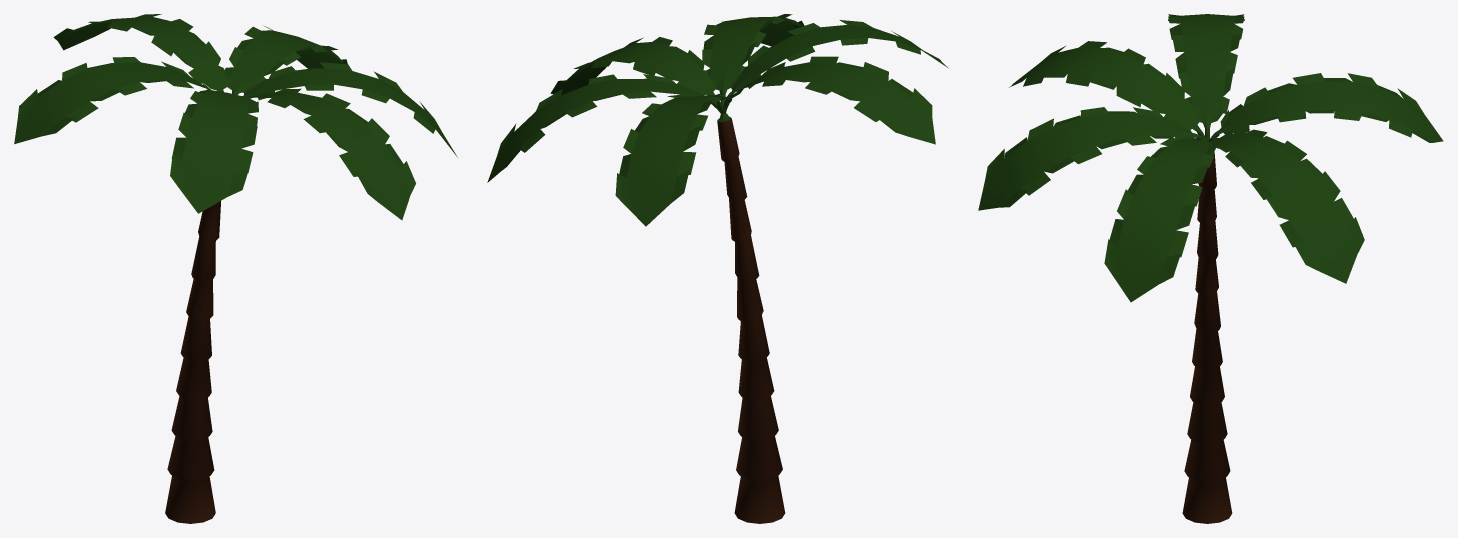
Rendered from Palm Tree_004.fbx.
3 views of the same model, side by side, from view 1: azimuth 30°, elevation 25°; view 2: azimuth 150°, elevation 25°; view 3: azimuth 270°, elevation 25° (orthographic).
Parts seen in each view (by area): view 1: PalmTree_LOD0; view 2: PalmTree_LOD0; view 3: PalmTree_LOD0.
Part boxes in pixels (box(x1,y1,x2,y2)): PalmTree_LOD0: box(14, 14, 457, 523); PalmTree_LOD0: box(487, 14, 948, 523); PalmTree_LOD0: box(978, 14, 1443, 523).
Size of what is drawn, in the model's own units: 96.1 by 104 by 97.4.
